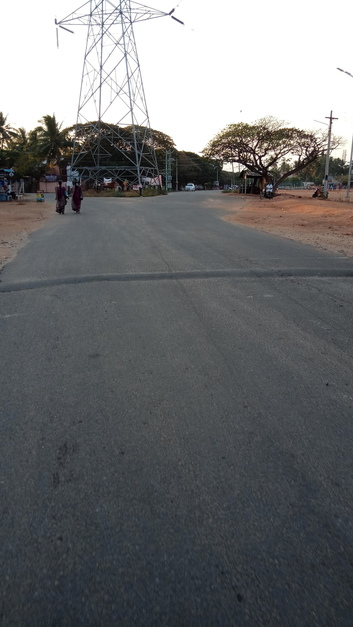bump: (1, 265, 353, 292)
